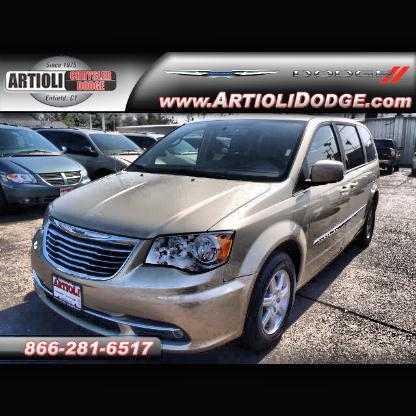Chrysler Town and Country Minivan 2012: (31, 103, 386, 364)
